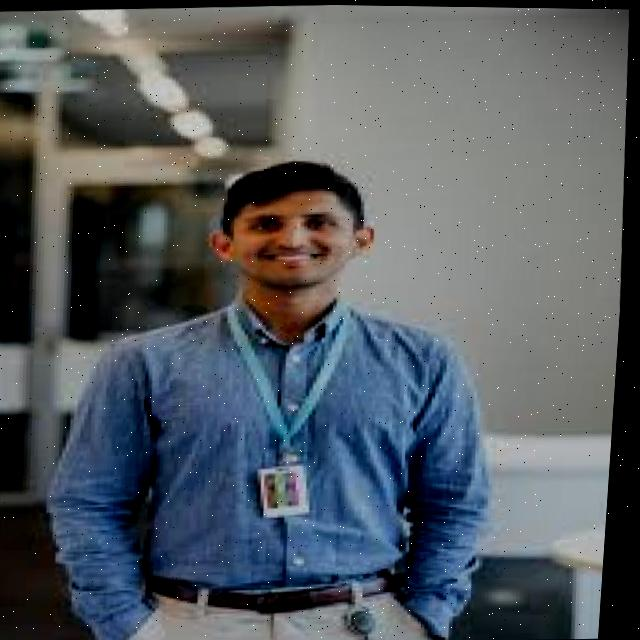id_card: (215, 293, 362, 531)
